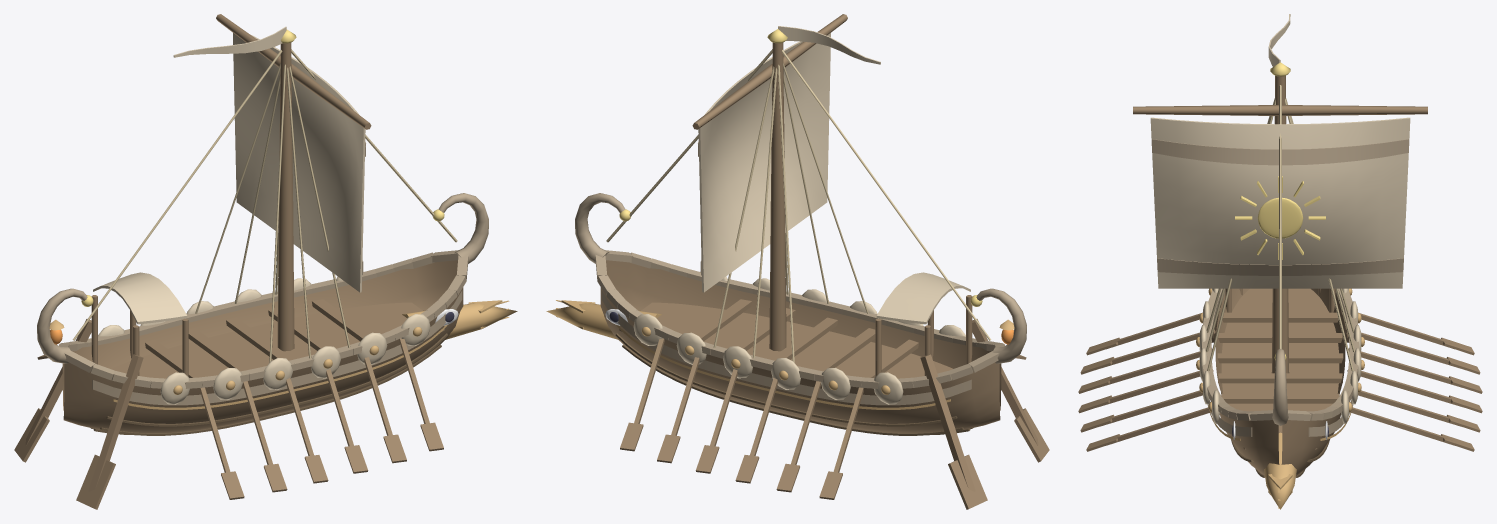
The model's file is civ.ship.glb.
The picture shows the model from 3 angles, left to right: view 1: azimuth 30°, elevation 25°; view 2: azimuth 150°, elevation 25°; view 3: azimuth 270°, elevation 25°; orthographic projection.
Parts seen in each view (by area): view 1: Wood, Paint, PaintDark, Rope, Bronze, Door; view 2: Wood, Paint, PaintDark, Rope, Bronze, Door; view 3: Paint, Wood, PaintDark, Gold, Rope, Bronze.
Part boxes in pixels (bbox=[...]): Wood: bbox=[14, 14, 463, 509]; Paint: bbox=[93, 26, 430, 404]; PaintDark: bbox=[37, 142, 488, 405]; Rope: bbox=[72, 49, 457, 362]; Bronze: bbox=[49, 300, 517, 409]; Door: bbox=[91, 333, 448, 435]; Wood: bbox=[600, 14, 1049, 509]; Paint: bbox=[633, 26, 970, 404]; PaintDark: bbox=[575, 142, 1026, 405]; Rope: bbox=[606, 49, 991, 362]; Bronze: bbox=[546, 300, 1014, 409]; Door: bbox=[615, 333, 972, 435]; Paint: bbox=[1150, 14, 1410, 423]; Wood: bbox=[1078, 76, 1482, 475]; PaintDark: bbox=[1151, 139, 1409, 436]; Gold: bbox=[1235, 62, 1325, 360]; Rope: bbox=[1206, 85, 1354, 371]; Bronze: bbox=[1196, 288, 1364, 509].
Size of the model in its own units: 3.13 by 2.48 by 2.3.
